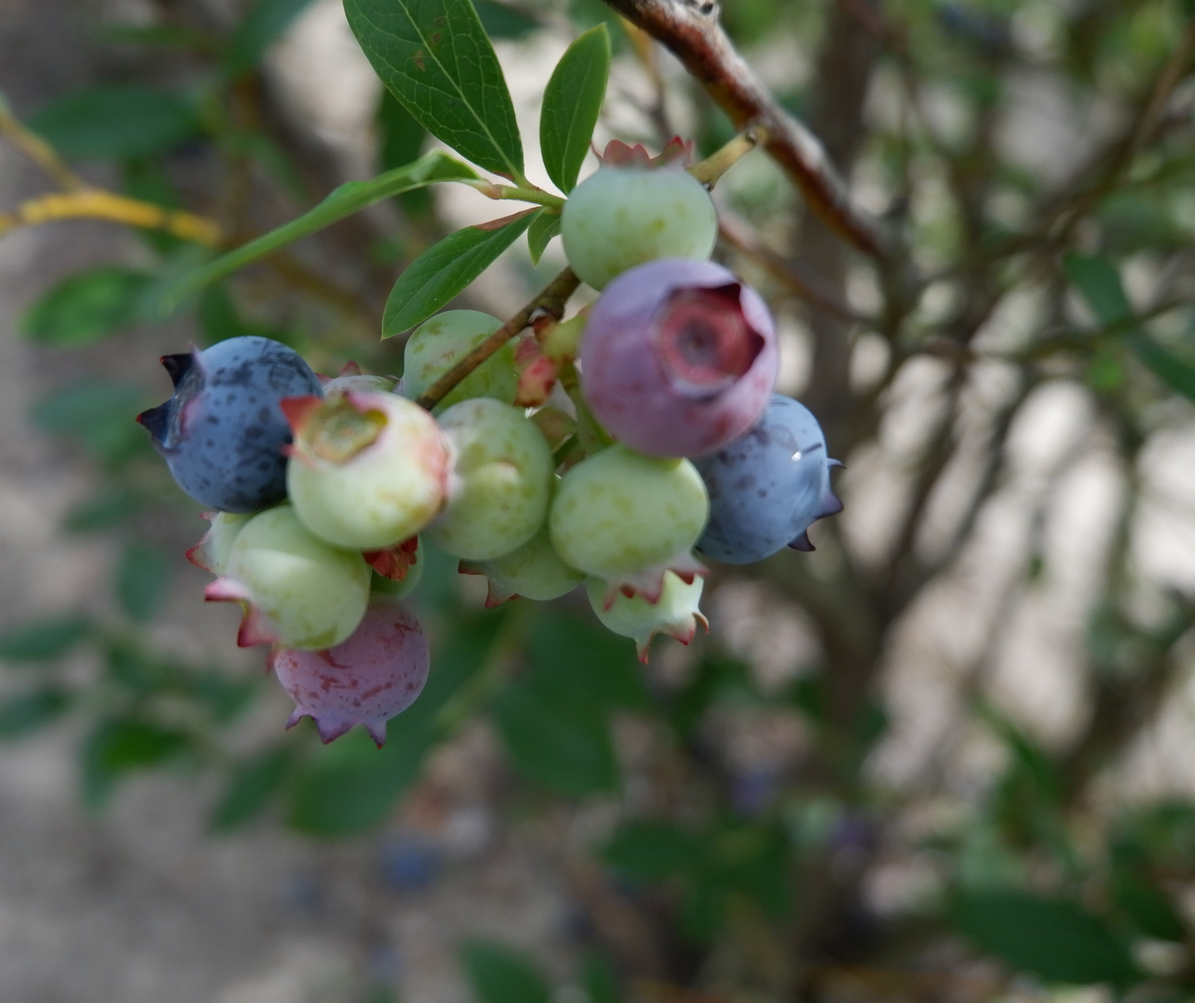Immature: (582, 257, 772, 455), (287, 387, 445, 545), (563, 140, 714, 284), (214, 507, 365, 648), (276, 598, 424, 741), (552, 446, 706, 580), (428, 401, 551, 559), (403, 311, 516, 410), (594, 563, 704, 653), (466, 526, 580, 602), (191, 513, 259, 571), (531, 404, 574, 462), (322, 362, 399, 393)
Mature: (147, 340, 317, 508), (693, 395, 839, 561)
